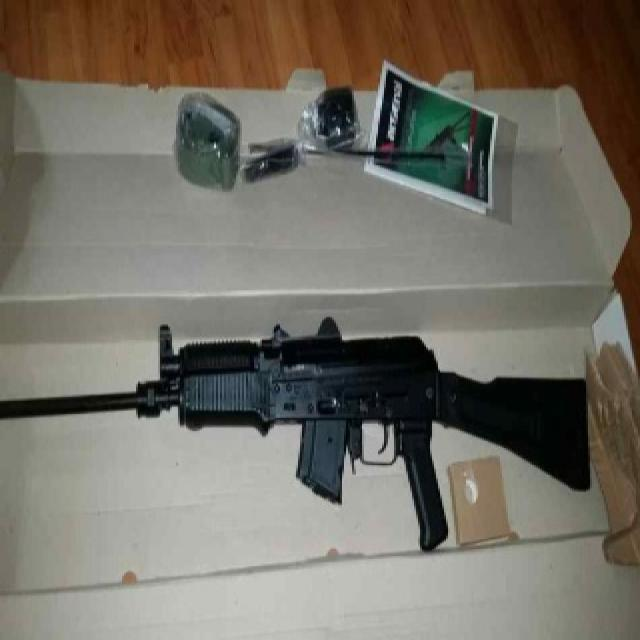weapon: (6, 320, 594, 552)
